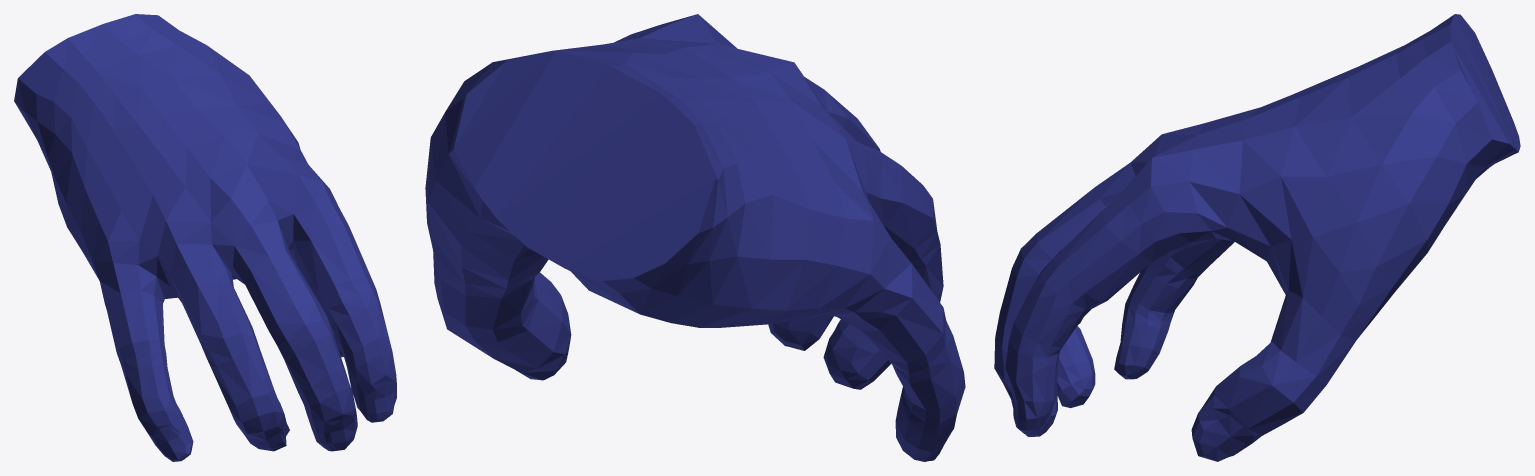
3 renders of one model, left to right at view 1: azimuth 30°, elevation 25°; view 2: azimuth 150°, elevation 25°; view 3: azimuth 270°, elevation 25°, orthographic. The views are drawn at different scales.
Bounding box in the file's own units: 0.1054 × 0.1239 × 0.1511.
